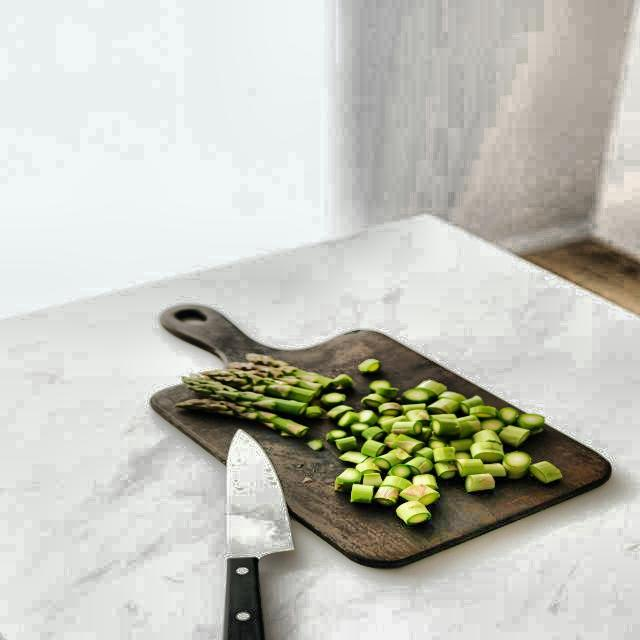knife: (212, 425, 302, 640)
